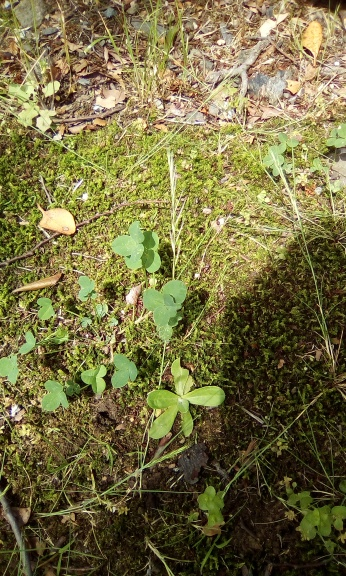4leaf: (141, 278, 188, 327)
